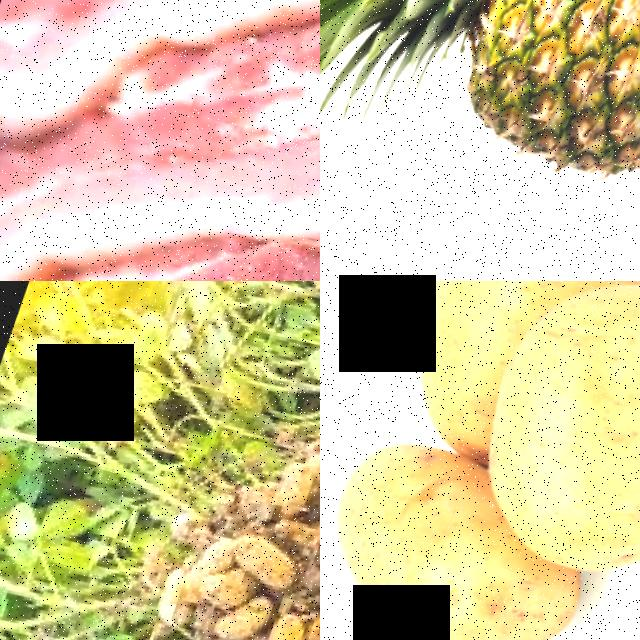peanuts: (229, 530, 313, 595), (197, 563, 262, 624), (216, 591, 283, 640), (265, 611, 317, 640)
pineapple: (367, 0, 640, 250)
pork belly: (48, 0, 320, 281), (0, 0, 320, 147), (0, 206, 320, 281)
potato: (443, 281, 640, 609), (320, 491, 605, 640), (378, 281, 579, 465)
